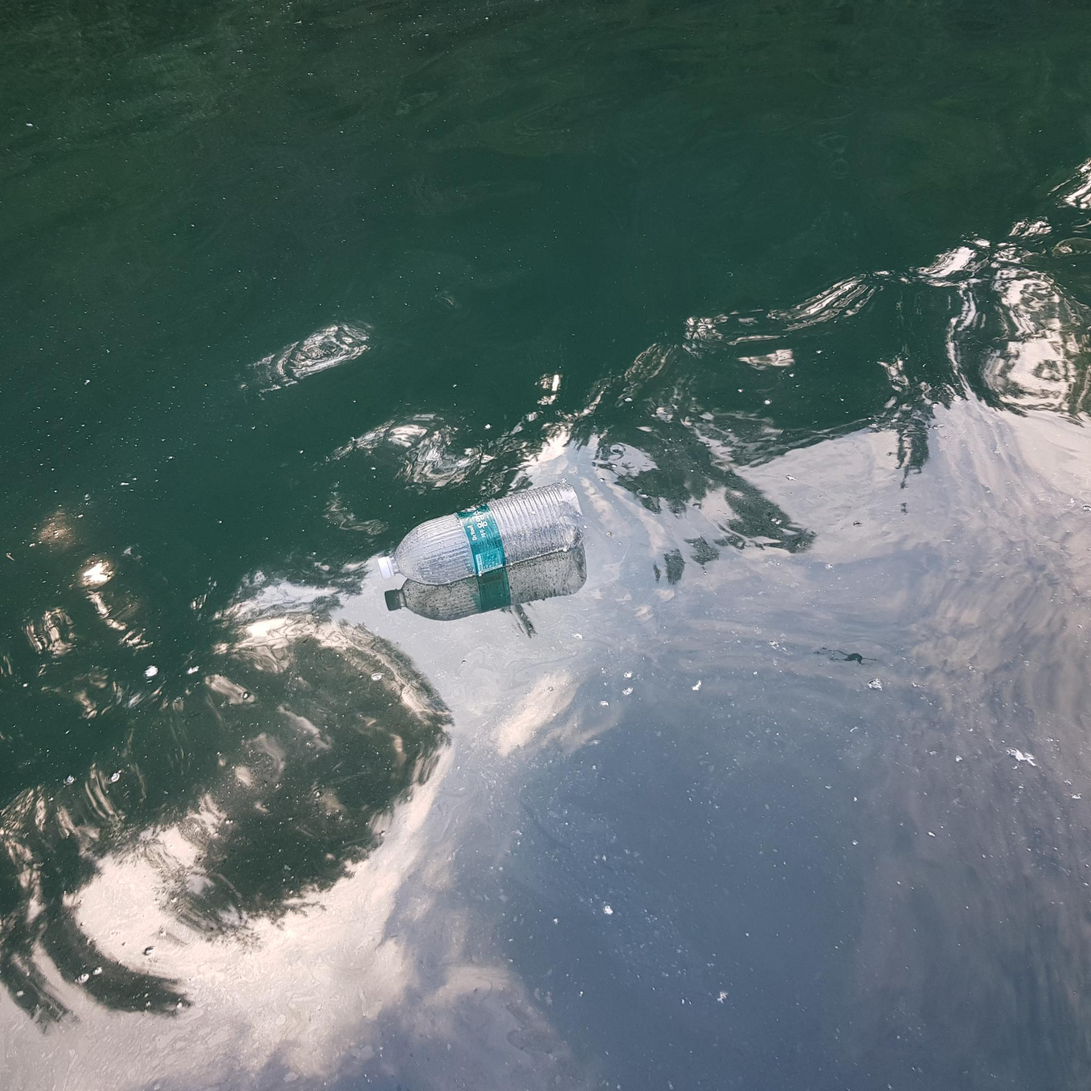sampah_terapung: (378, 484, 586, 585)
